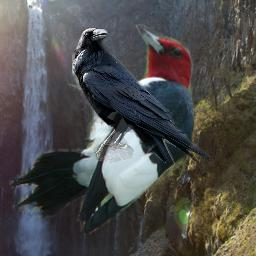Crow: (72, 27, 215, 163)
Woodpecker: (9, 24, 194, 235)
